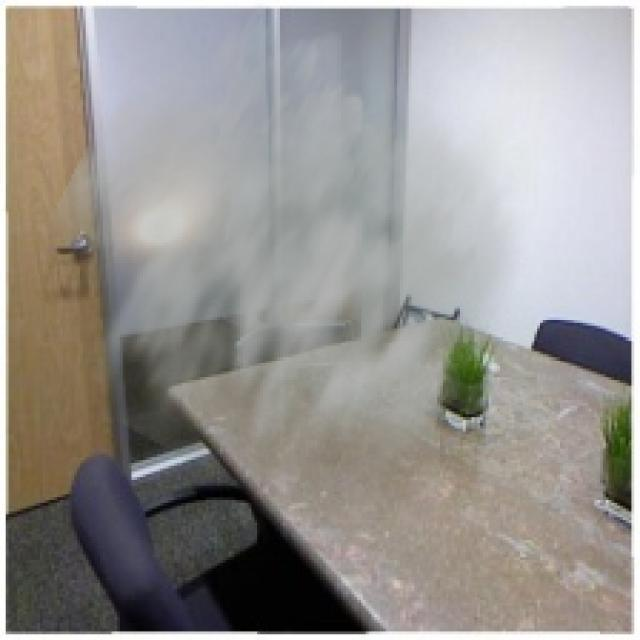Smoke: (26, 0, 540, 557)
